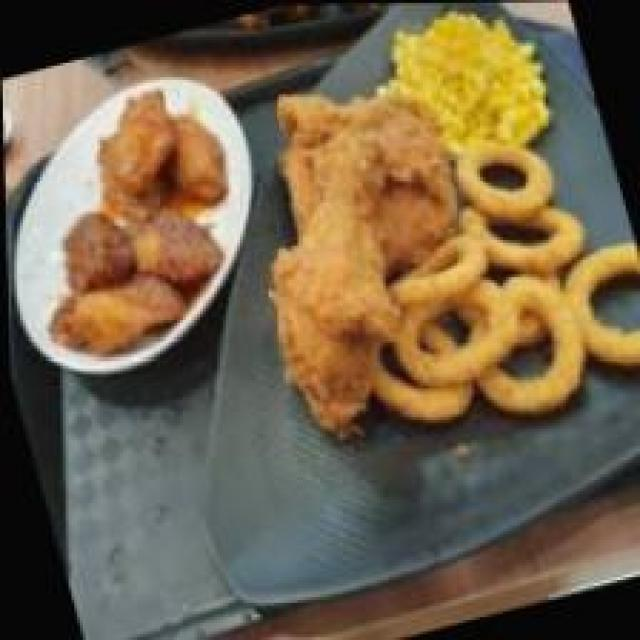Chicken Wings: (0, 16, 503, 490)
Onion Rings: (343, 131, 640, 446)
